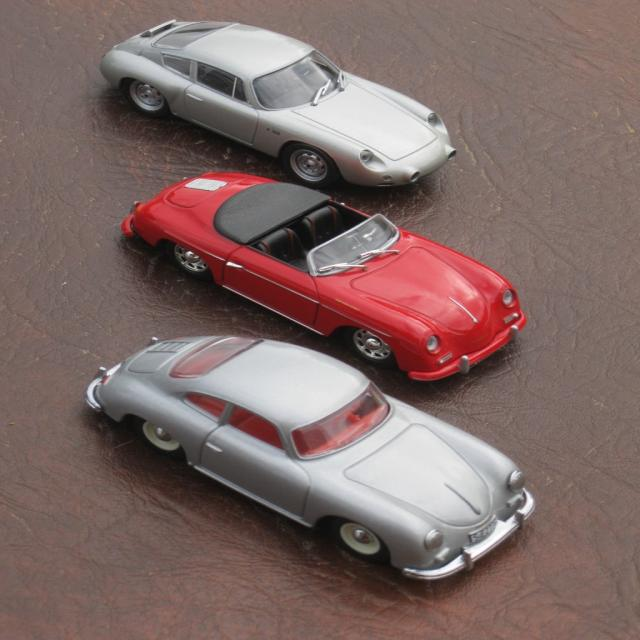car: (91, 14, 454, 188)
